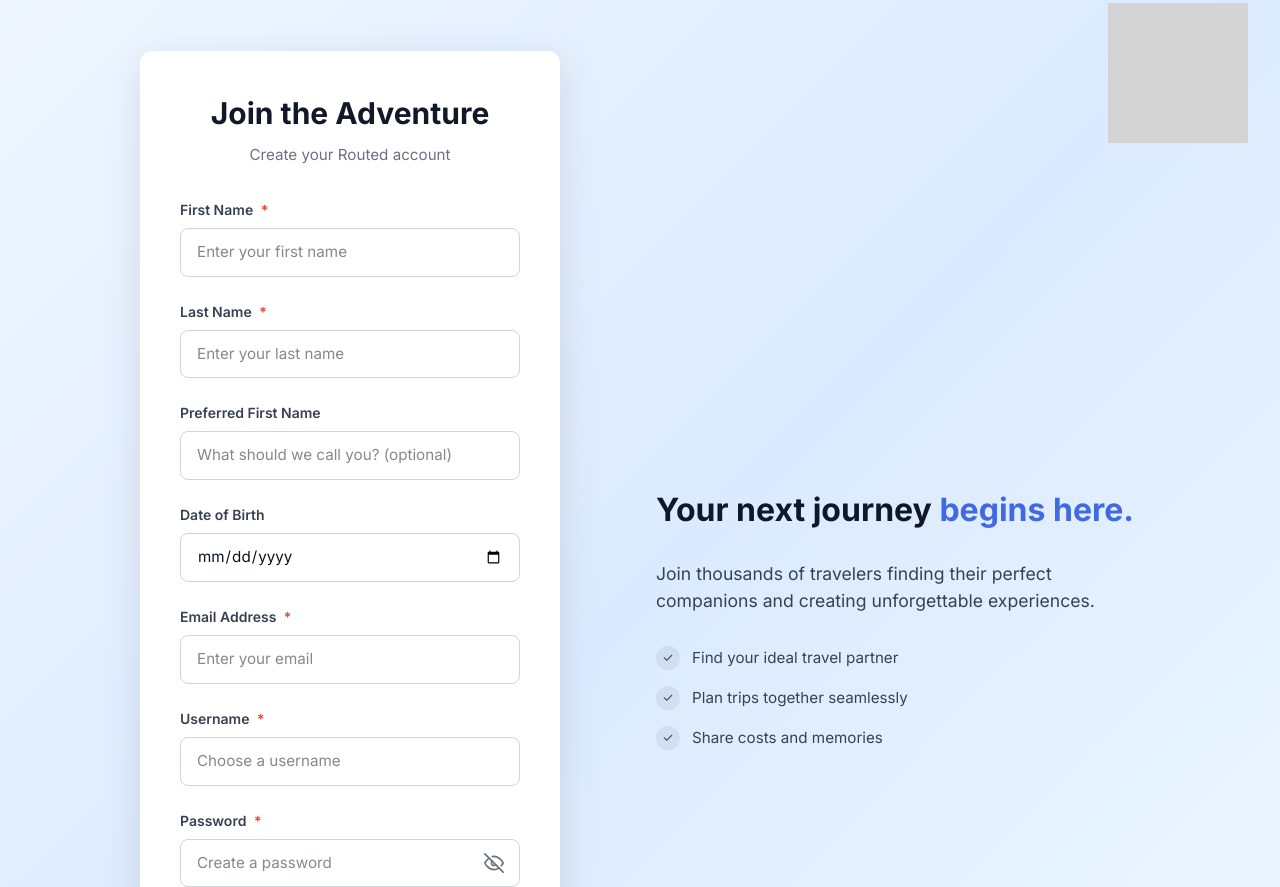
it: Signup › shows error when passwords do not match
The image size is (1280, 887).
In the field labelled "First Name *": (350, 252) left=180, top=228, right=520, bottom=277, type "John"
In the field labelled "Last Name *": (350, 354) left=180, top=330, right=520, bottom=378, type "Doe"
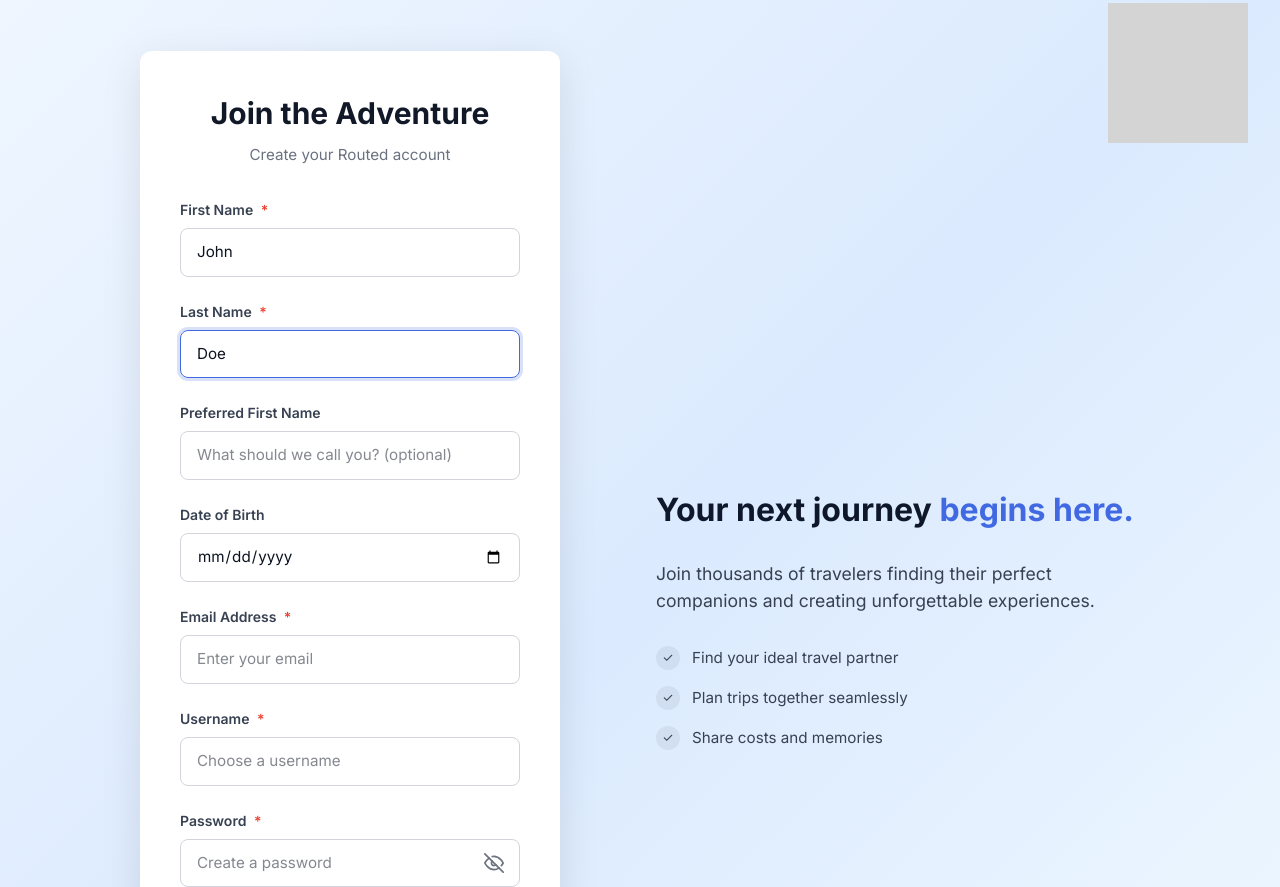
In the field labelled "Email Address *": (350, 659) left=180, top=635, right=520, bottom=684, type "john@example.com"
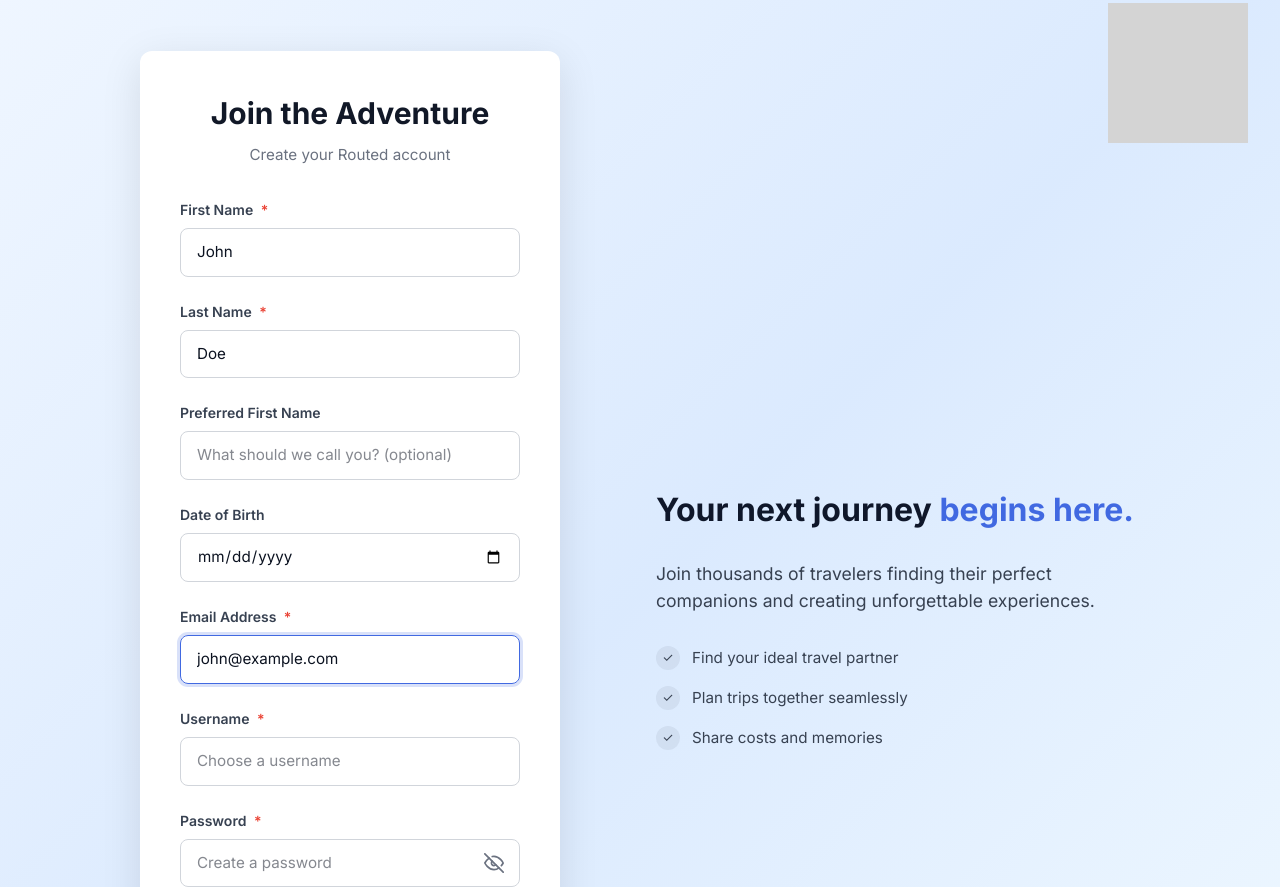
In the field labelled "Username *": (350, 761) left=180, top=737, right=520, bottom=786, type "johndoe"
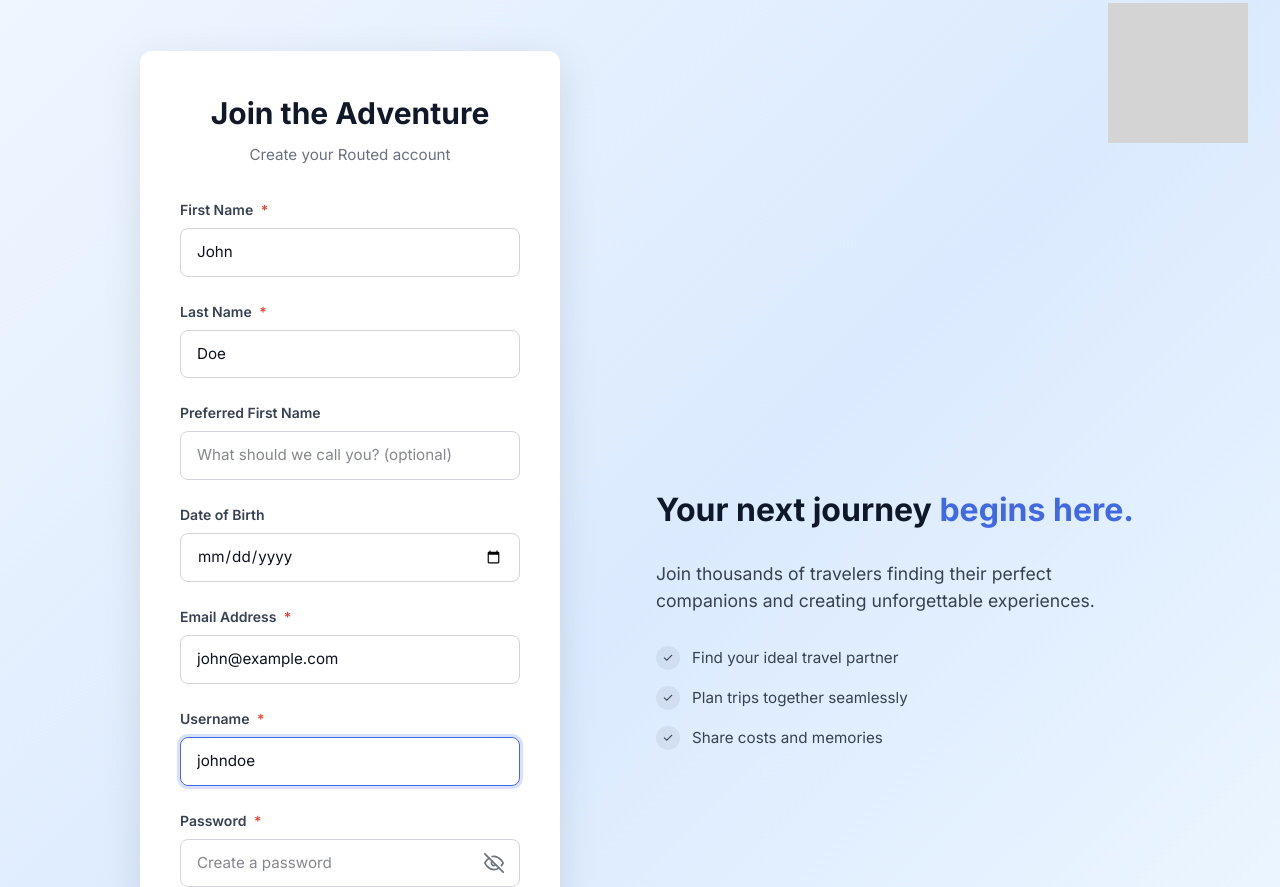
In the password field labelled "Password *": (350, 863) left=180, top=838, right=520, bottom=886, type "password123"
(page scrolled)
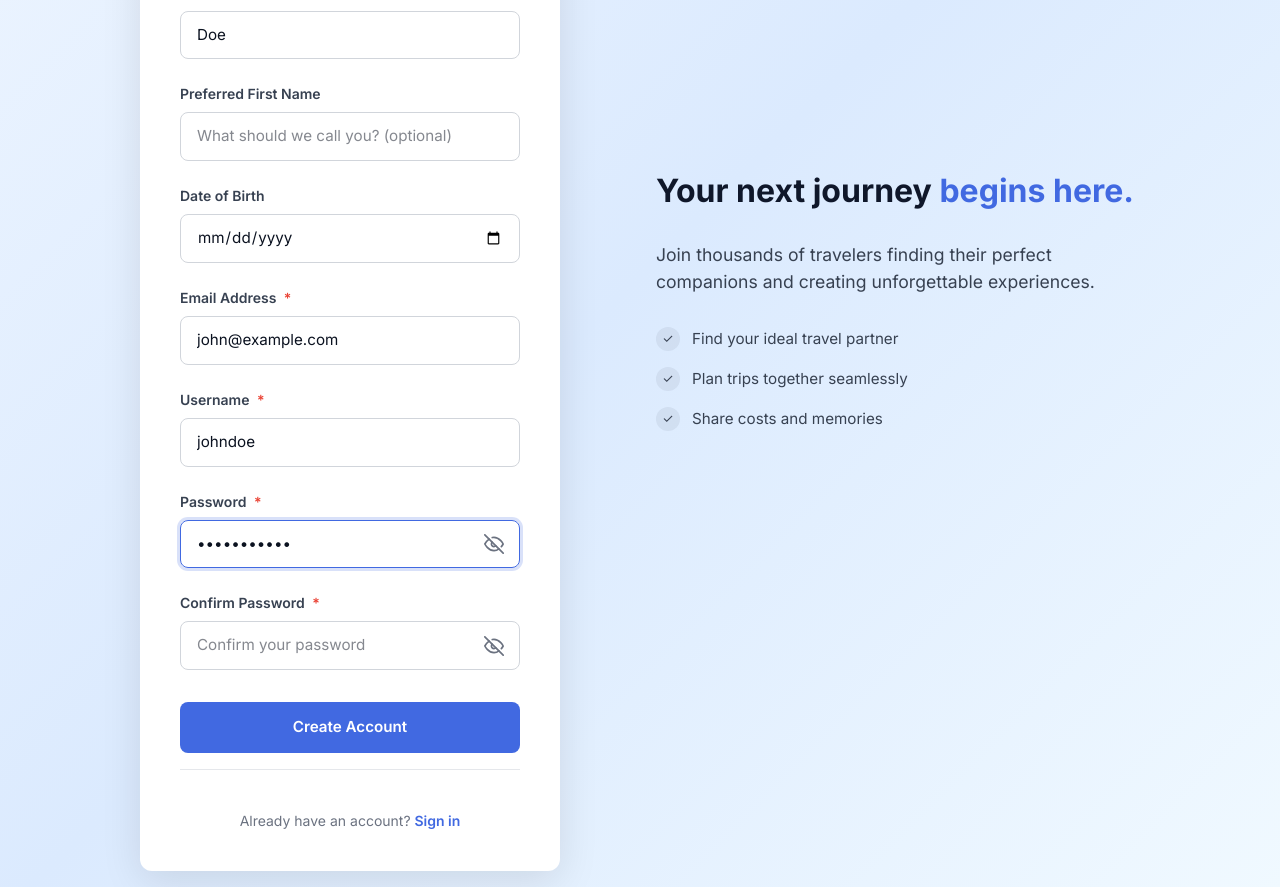
In the password field labelled "Confirm Password *": (350, 646) left=180, top=621, right=520, bottom=670, type "different"
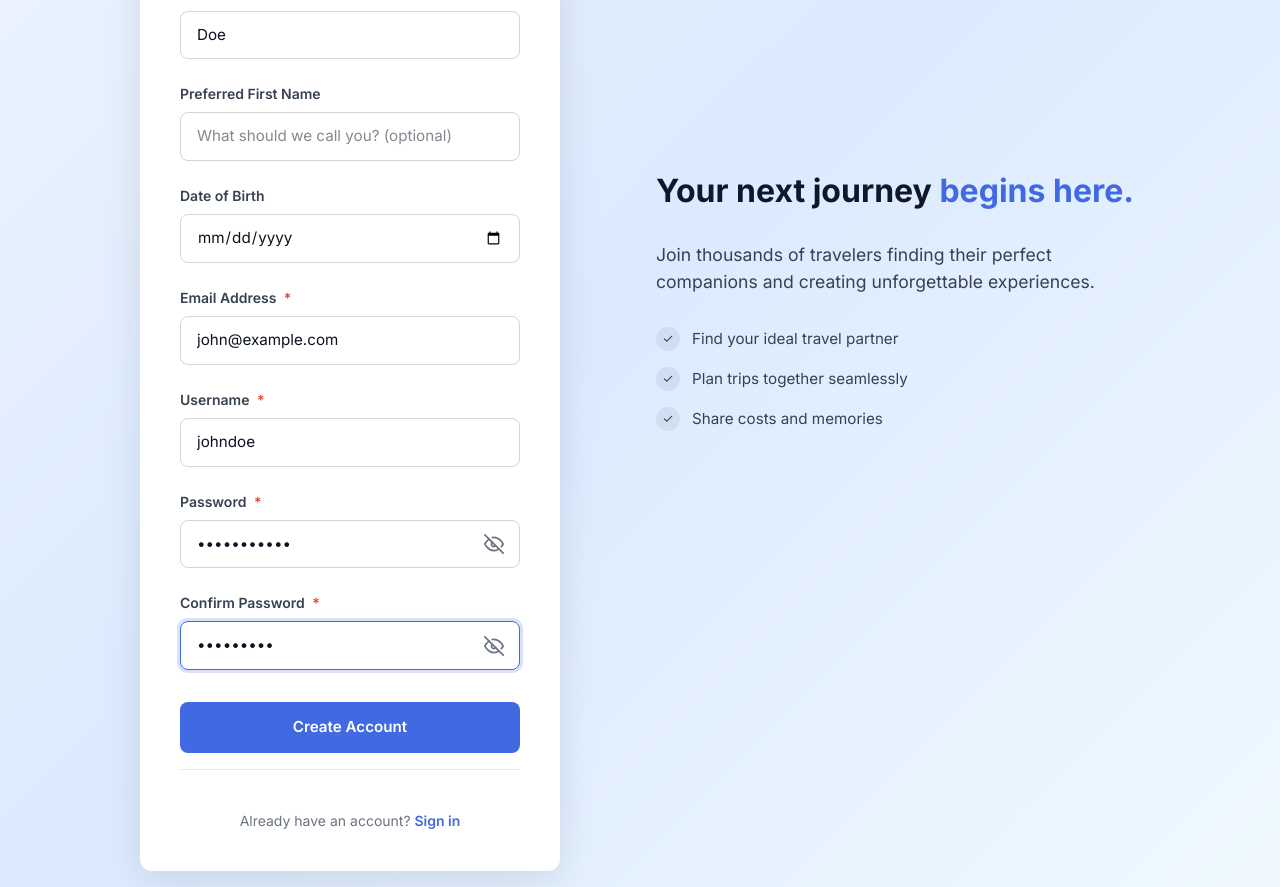
Click the button "Create Account": (350, 728) left=180, top=702, right=520, bottom=753
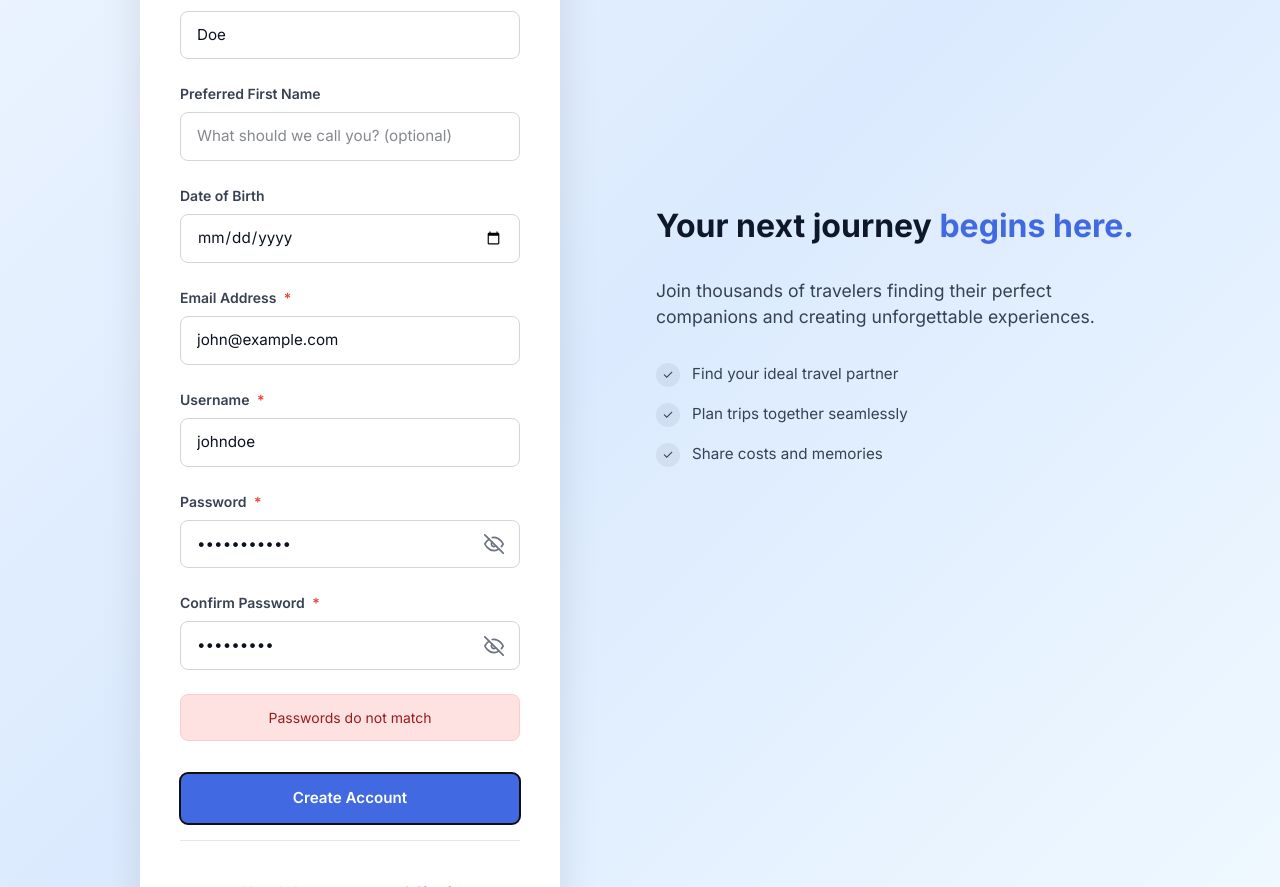
Check: the text "Passwords do not match" is shown, box left=180, top=694, right=520, bottom=741
